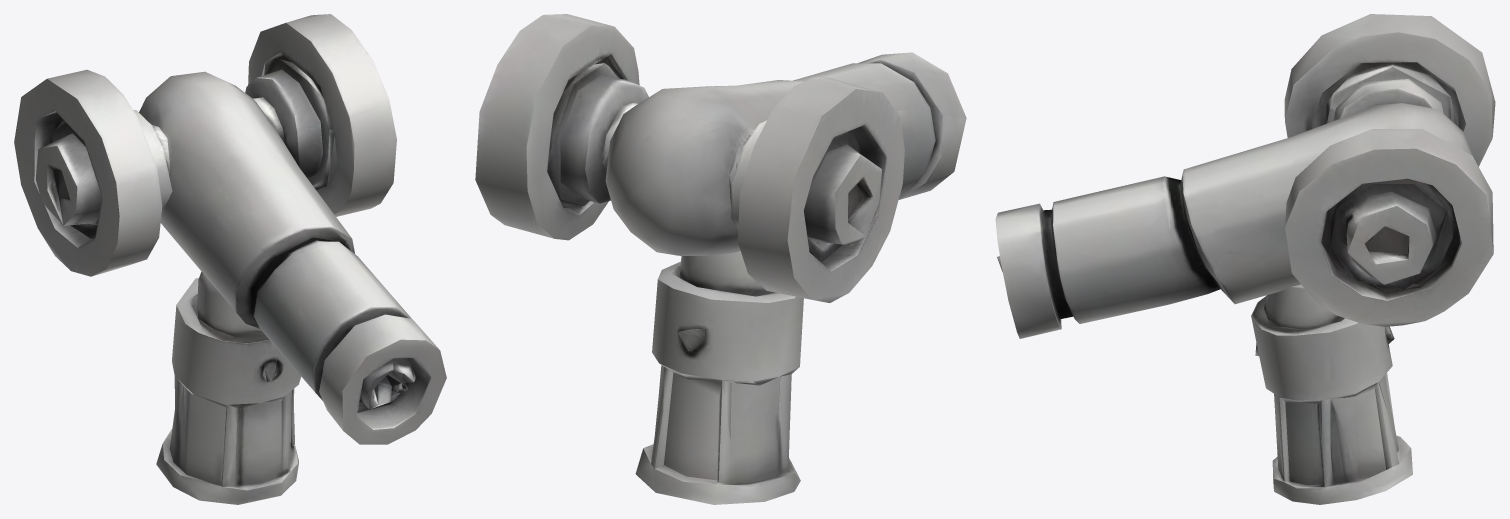
Rendered from robotArmDrill.glb.
3 views of the same model, side by side, from view 1: azimuth 30°, elevation 25°; view 2: azimuth 150°, elevation 25°; view 3: azimuth 270°, elevation 25° (orthographic). The views are drawn at different scales.
Visible parts, largest first — view 1: model; view 2: model; view 3: model.
Boxes of the visible parts, x1=… form: model: x1=14, y1=14, x2=446, y2=504; model: x1=475, y1=14, x2=966, y2=504; model: x1=995, y1=14, x2=1495, y2=504.
Size of the model in its own units: 1.33 by 1.7 by 1.9.
Materials: 1 (1 with a texture image).
